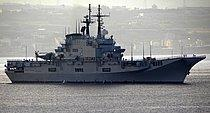MIL_Ship: (4, 3, 207, 84)
